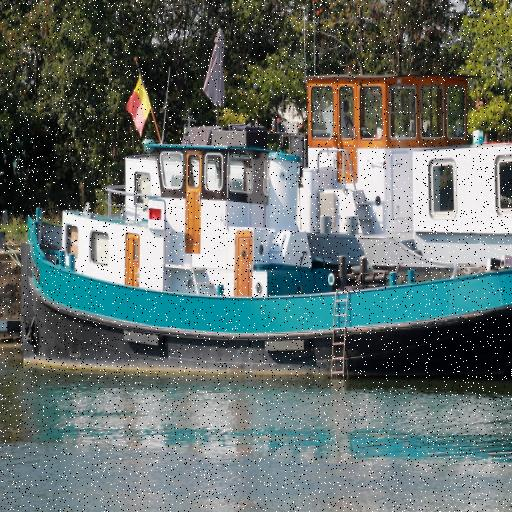tugboat: (18, 135, 512, 396)
